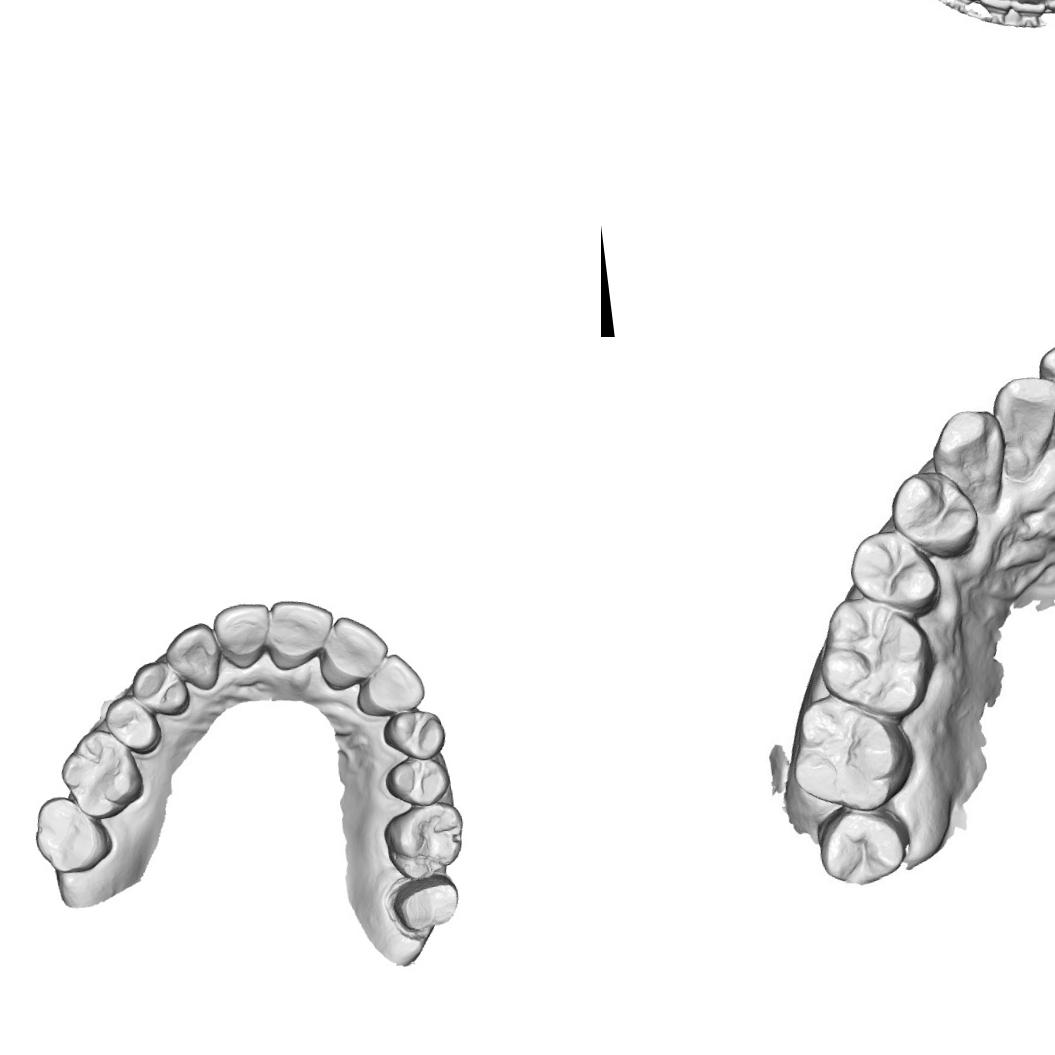canine: (926, 405, 1014, 520), (160, 618, 226, 696)
crown: (387, 870, 467, 938)
incisor: (987, 370, 1055, 483), (309, 609, 395, 695), (262, 593, 337, 673), (350, 648, 428, 722), (208, 597, 276, 674), (1038, 337, 1055, 450), (1006, 0, 1048, 18), (972, 0, 1016, 15)
molar: (786, 686, 922, 819), (814, 591, 940, 715), (46, 724, 148, 824), (378, 798, 470, 887), (28, 790, 118, 880)
premolar: (884, 462, 982, 556), (845, 523, 941, 613), (126, 655, 193, 722), (101, 691, 164, 759), (380, 753, 455, 810), (380, 706, 450, 765)
